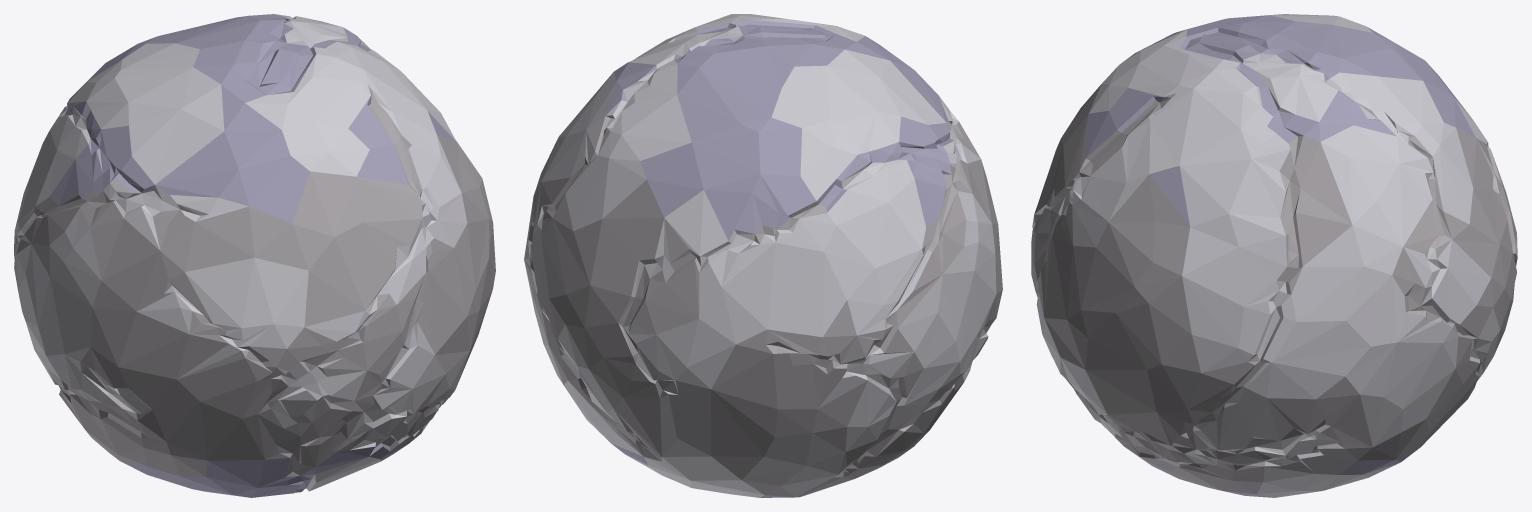
The model's file is IceWorld_Model.fbx.
The picture shows the model from 3 angles, left to right: view 1: azimuth 30°, elevation 25°; view 2: azimuth 150°, elevation 25°; view 3: azimuth 270°, elevation 25°; orthographic projection.
Parts seen in each view (by area): view 1: IceWorld; view 2: IceWorld; view 3: IceWorld.
Part boxes in pixels (x1,y1,x2,y2): IceWorld: (14, 14, 495, 497); IceWorld: (524, 14, 1002, 497); IceWorld: (1031, 14, 1517, 497).
Bounding box in the file's own units: 16.04 × 15.65 × 16.06.
